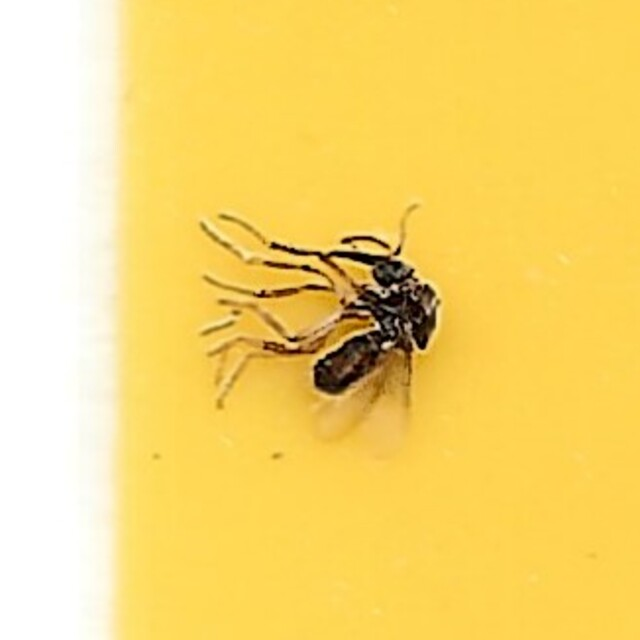Brachycera: (196, 192, 444, 448)
